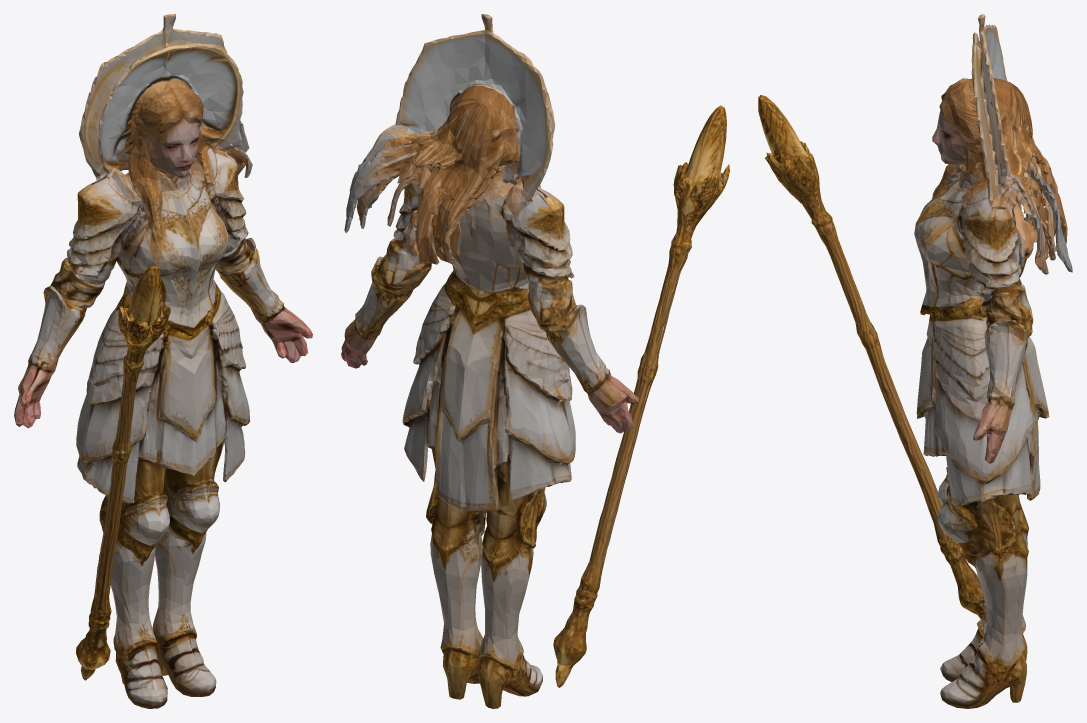
Rendered from batch2_02_generated_from_image_glb.glb.
3 views of the same model, side by side, from view 1: azimuth 30°, elevation 25°; view 2: azimuth 150°, elevation 25°; view 3: azimuth 270°, elevation 25° (orthographic).
Parts seen in each view (by area): view 1: textured_mesh.obj; view 2: textured_mesh.obj; view 3: textured_mesh.obj.
Part boxes in pixels (left/top/right/bottom): textured_mesh.obj: left=14, top=14, right=312, bottom=708; textured_mesh.obj: left=341, top=14, right=729, bottom=708; textured_mesh.obj: left=758, top=14, right=1072, bottom=708.
Size of the model in its own units: 0.8992 by 1.99 by 0.8352.
1 material, 1 textured.
